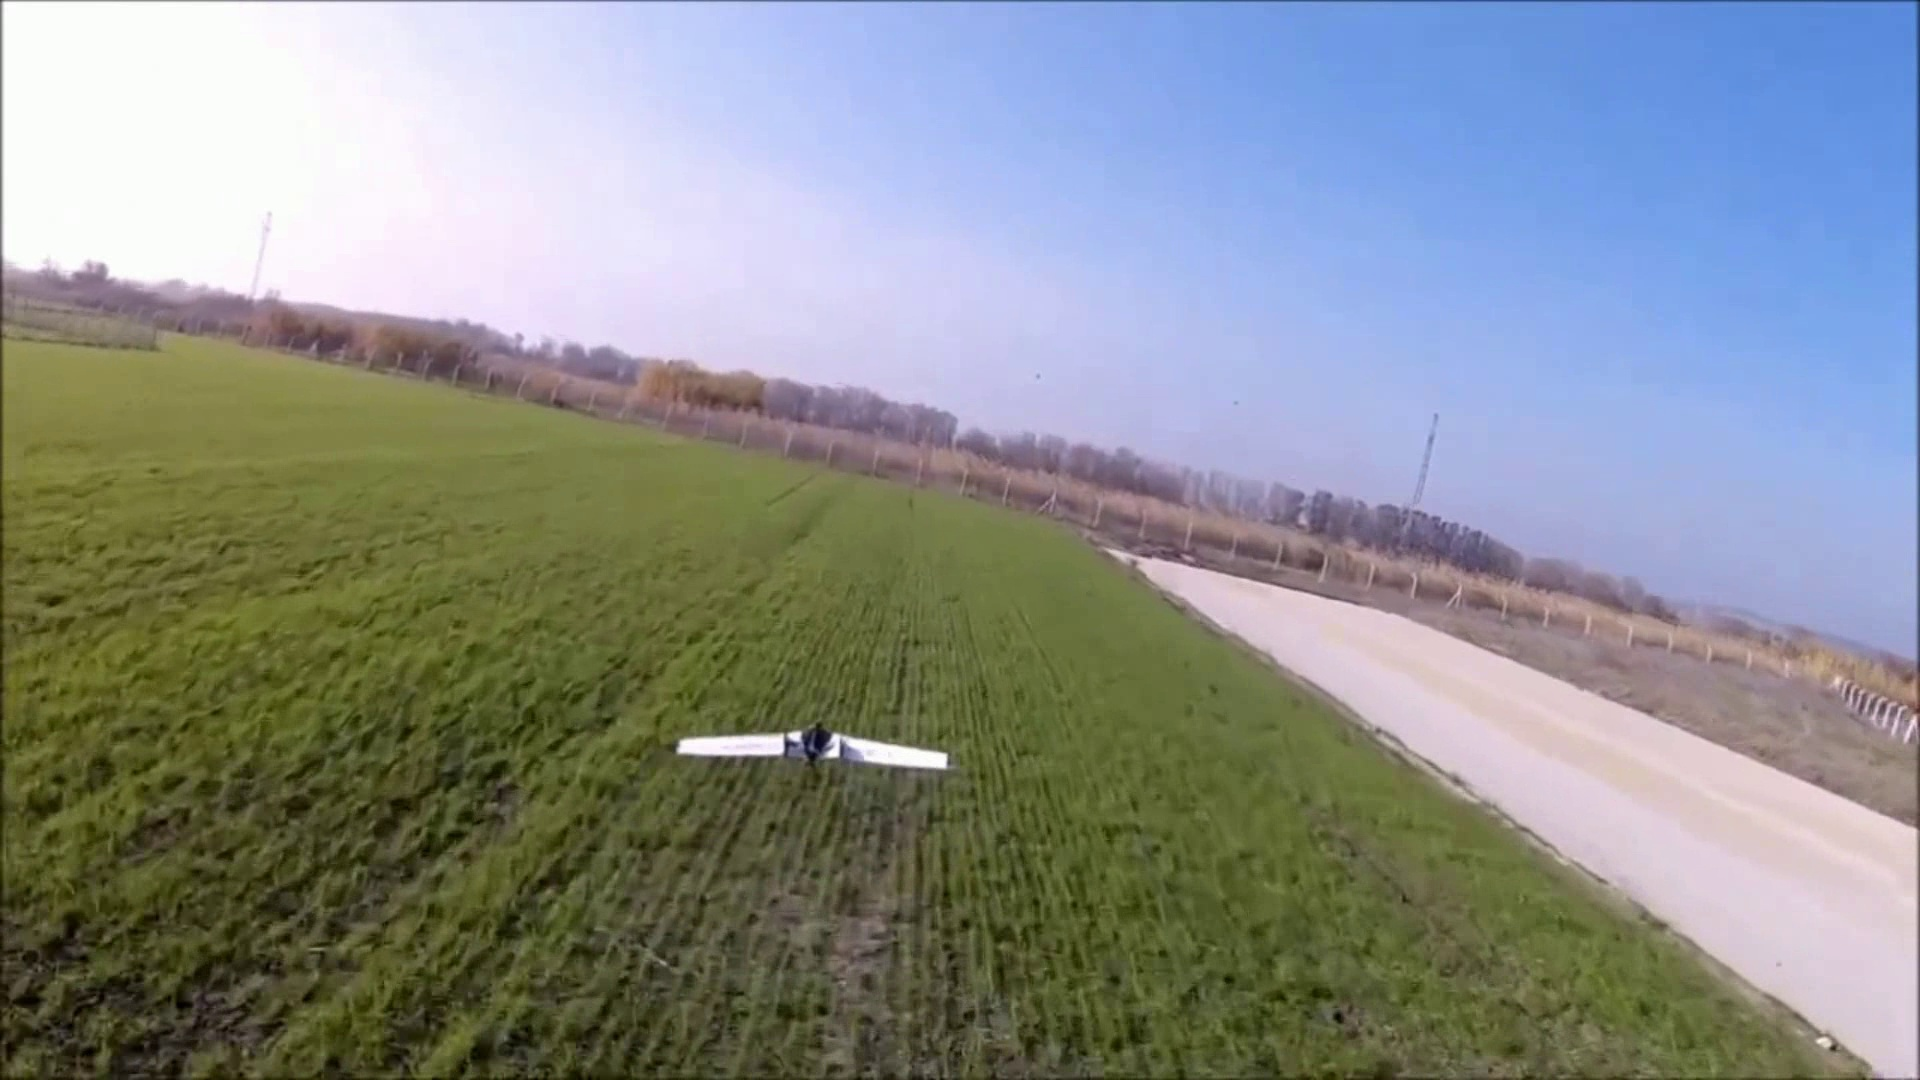airplane: (677, 724, 953, 771)
